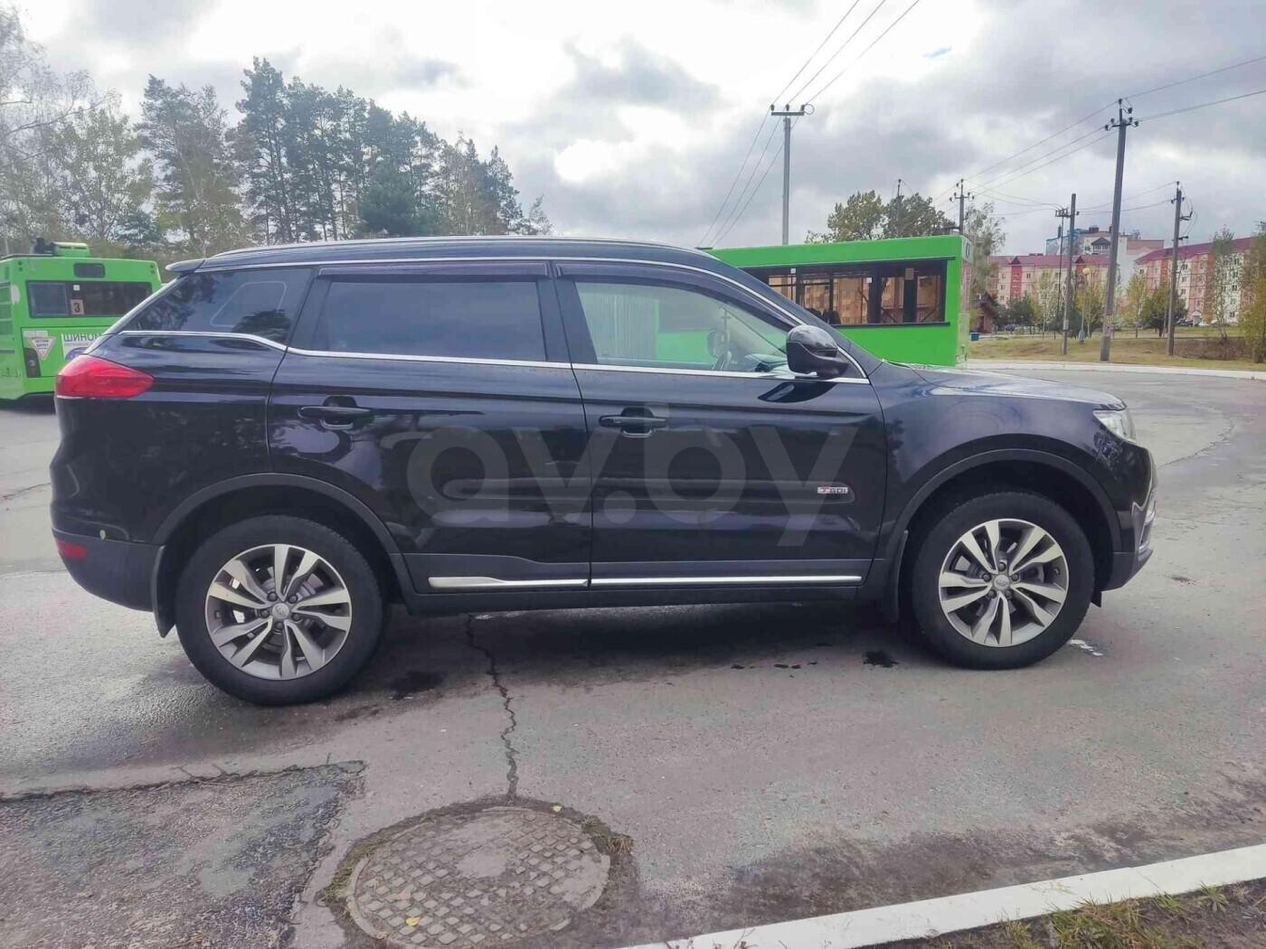Atlas_2016-2023: (44, 230, 1163, 710)
